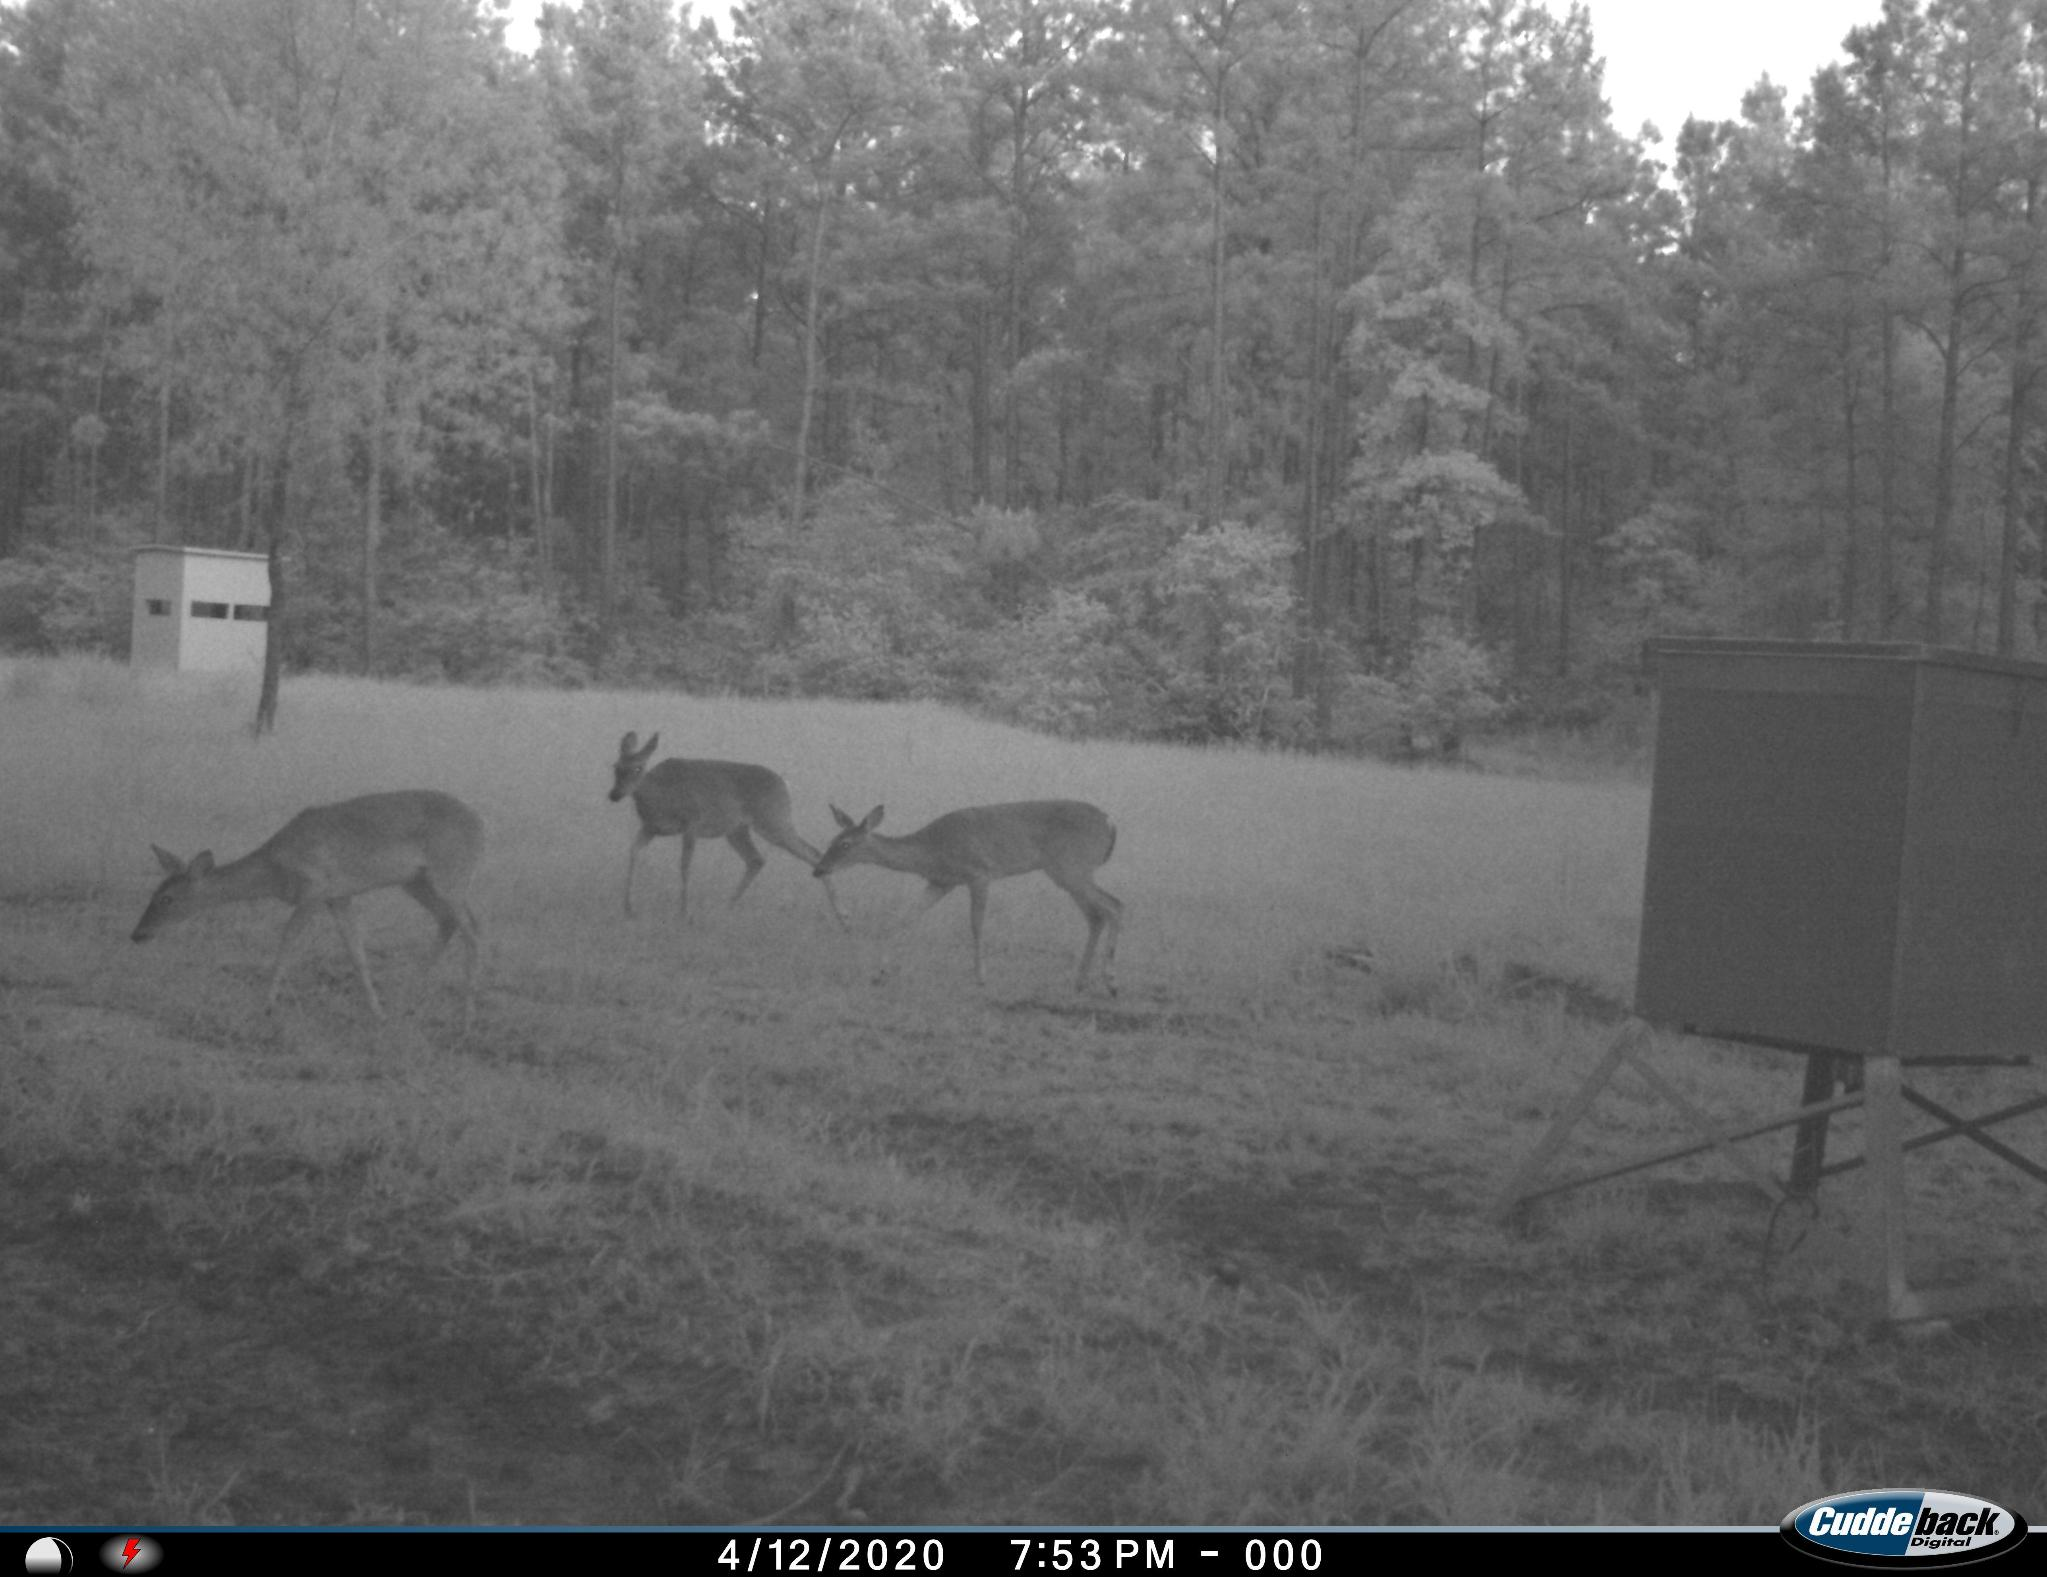Deer: (126, 780, 494, 1059), (805, 792, 1141, 997), (596, 731, 851, 934)
